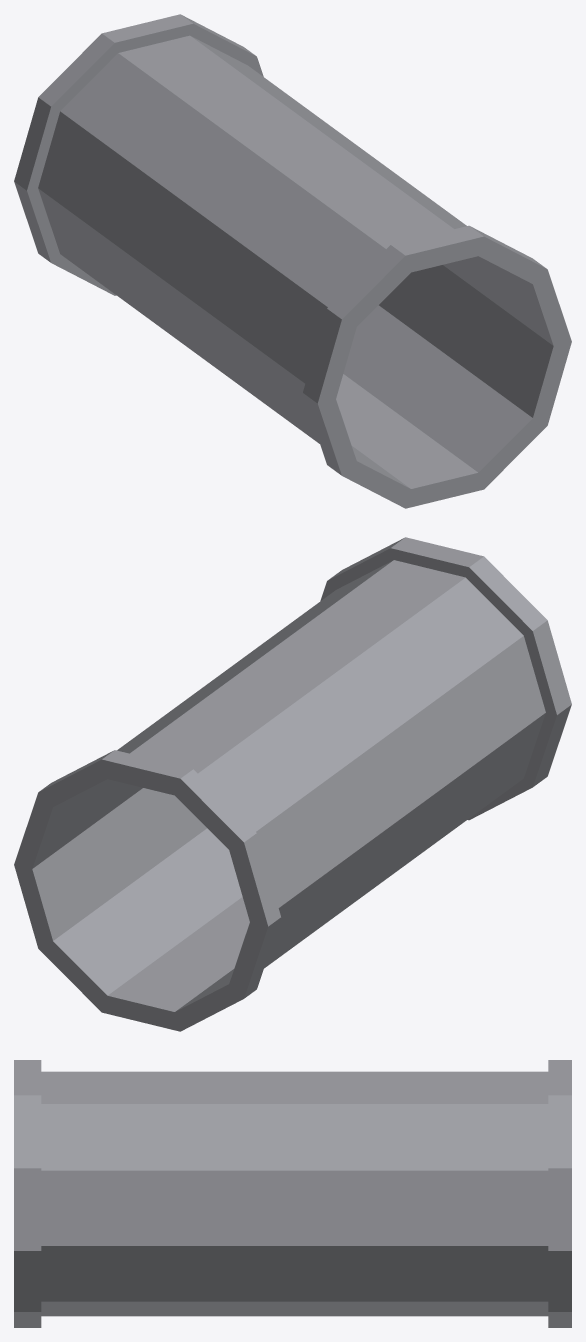
File: TuberiaGrande_PrincipalSeparada.fbx
3 renders of one model, top to bottom at view 1: azimuth 30°, elevation 25°; view 2: azimuth 150°, elevation 25°; view 3: azimuth 270°, elevation 25°, orthographic. The views are drawn at different scales.
Parts seen in each view (by area): view 1: TuberiaGrande_ParteArriba, TuberiaGrande_ParteAbajo; view 2: TuberiaGrande_ParteArriba, TuberiaGrande_ParteAbajo; view 3: TuberiaGrande_ParteArriba, TuberiaGrande_ParteAbajo.
Part boxes in pixels (bbox=[...]): TuberiaGrande_ParteArriba: bbox=[14, 14, 571, 403]; TuberiaGrande_ParteAbajo: bbox=[14, 181, 571, 508]; TuberiaGrande_ParteArriba: bbox=[14, 537, 571, 926]; TuberiaGrande_ParteAbajo: bbox=[14, 704, 571, 1031]; TuberiaGrande_ParteArriba: bbox=[14, 1060, 571, 1250]; TuberiaGrande_ParteAbajo: bbox=[14, 1246, 571, 1327].
Bounding box in the file's own units: 6.1 × 5.8 × 12.61.
